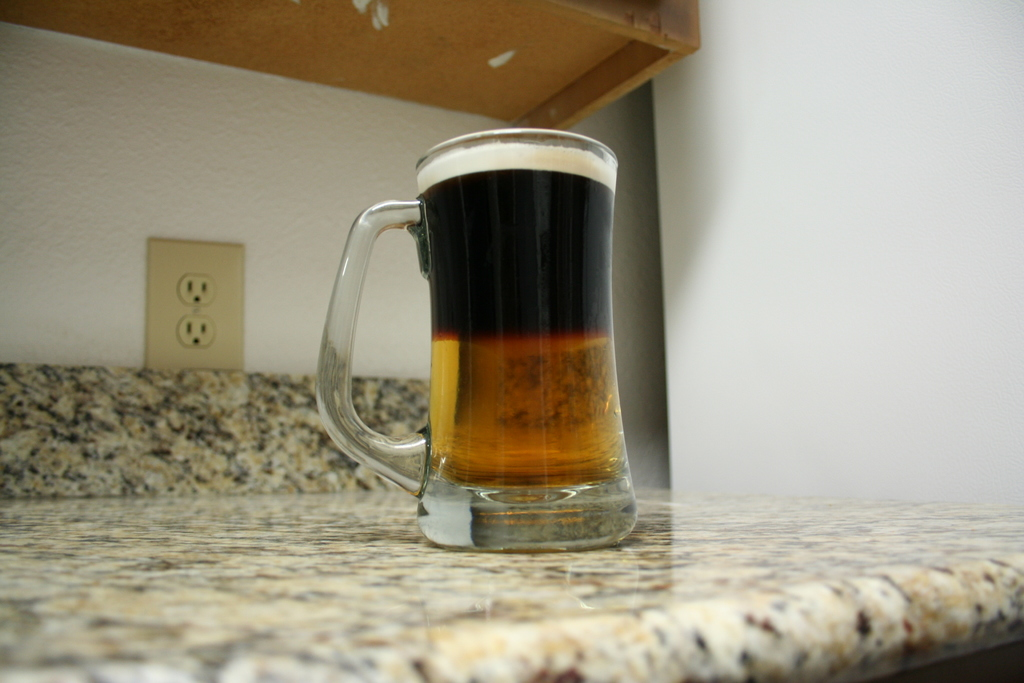Beer: (417, 139, 627, 485)
